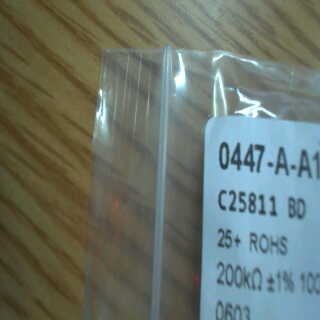200kR: (210, 260, 264, 293)
